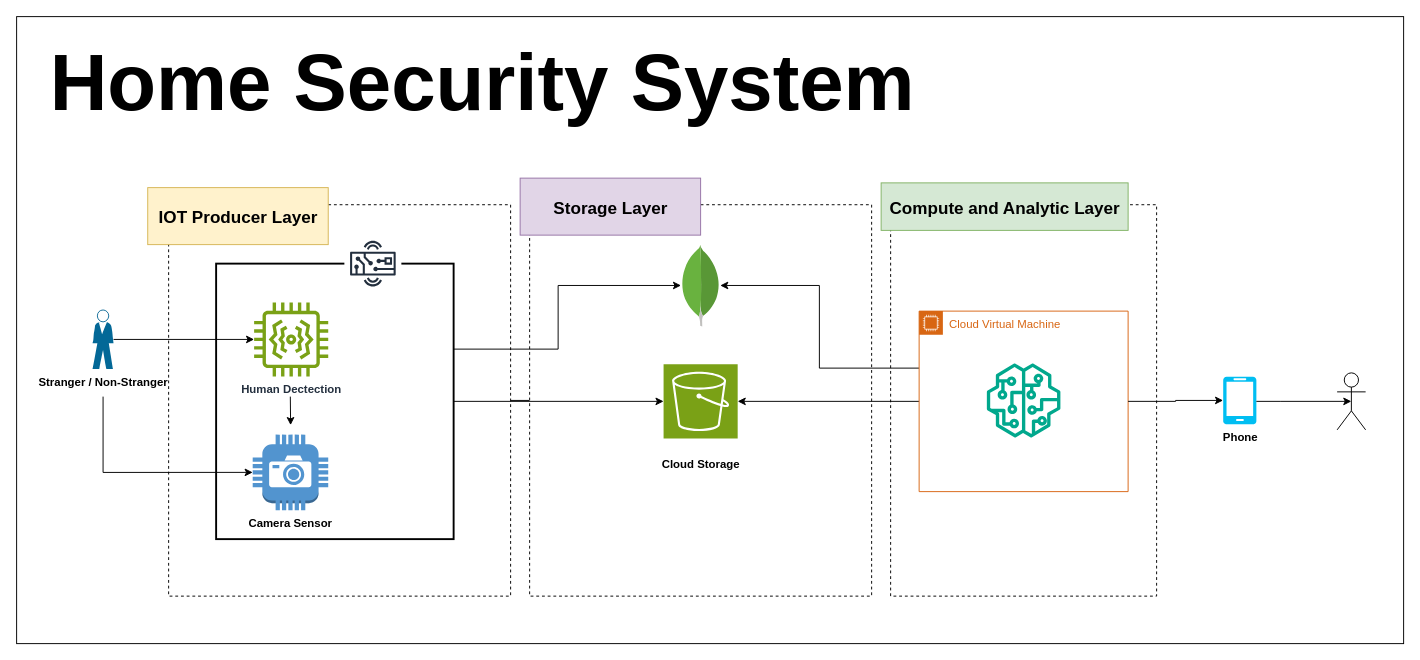
The diagram is 1420 pixels wide and 660 high, and some of its shapes have lost their labels. The box of each missing label's shape, as (x1, y1, x2, y2) in pixels:
ESP32 Board: (343, 234, 401, 292)
Home Owner: (1336, 372, 1366, 430)
Human Recognition Model: (986, 363, 1060, 437)
Mongo Database: (680, 244, 720, 327)
